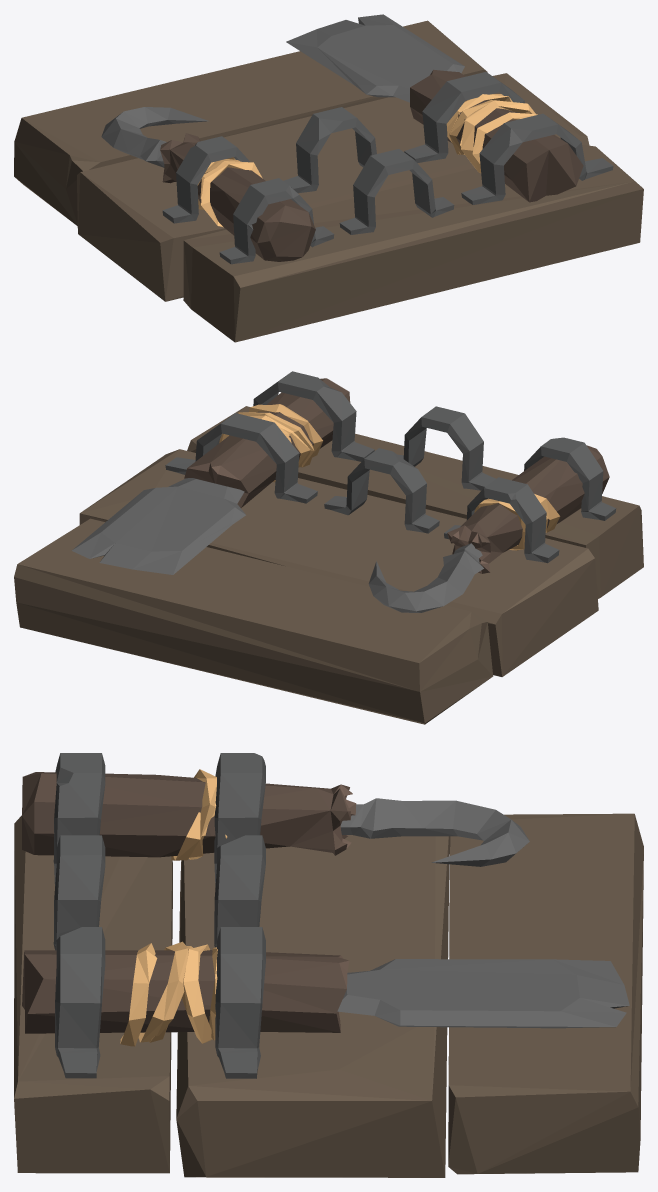
File: Tool_Table_003.fbx
3 renders of one model, top to bottom at view 1: azimuth 30°, elevation 25°; view 2: azimuth 150°, elevation 25°; view 3: azimuth 270°, elevation 25°, orthographic. The views are drawn at different scales.
Parts seen in each view (by area): view 1: Tool_Table_003.002_003, Tool_Table_003.002_001, Tool_Table_003.002_002; view 2: Tool_Table_003.002_003, Tool_Table_003.002_001, Tool_Table_003.002_002; view 3: Tool_Table_003.002_003, Tool_Table_003.002_001, Tool_Table_003.002_002.
Part boxes in pixels (box(x1,y1,x2,y2)): Tool_Table_003.002_003: box(14, 20, 643, 342); Tool_Table_003.002_001: box(286, 14, 583, 202); Tool_Table_003.002_002: box(101, 107, 315, 261); Tool_Table_003.002_003: box(14, 371, 643, 724); Tool_Table_003.002_001: box(71, 378, 350, 574); Tool_Table_003.002_002: box(368, 445, 609, 612); Tool_Table_003.002_003: box(14, 753, 643, 1177); Tool_Table_003.002_001: box(22, 941, 629, 1046); Tool_Table_003.002_002: box(22, 769, 529, 866).
Size of the model in its own units: 0.2816 by 0.0786 by 0.2535.
